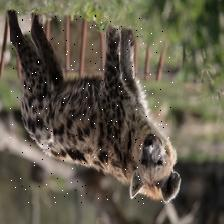hyena: (11, 12, 175, 204)
